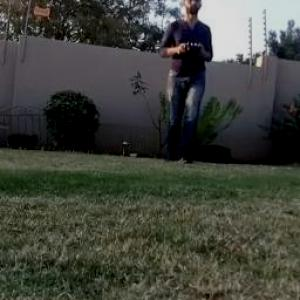follow: (151, 0, 218, 169)
